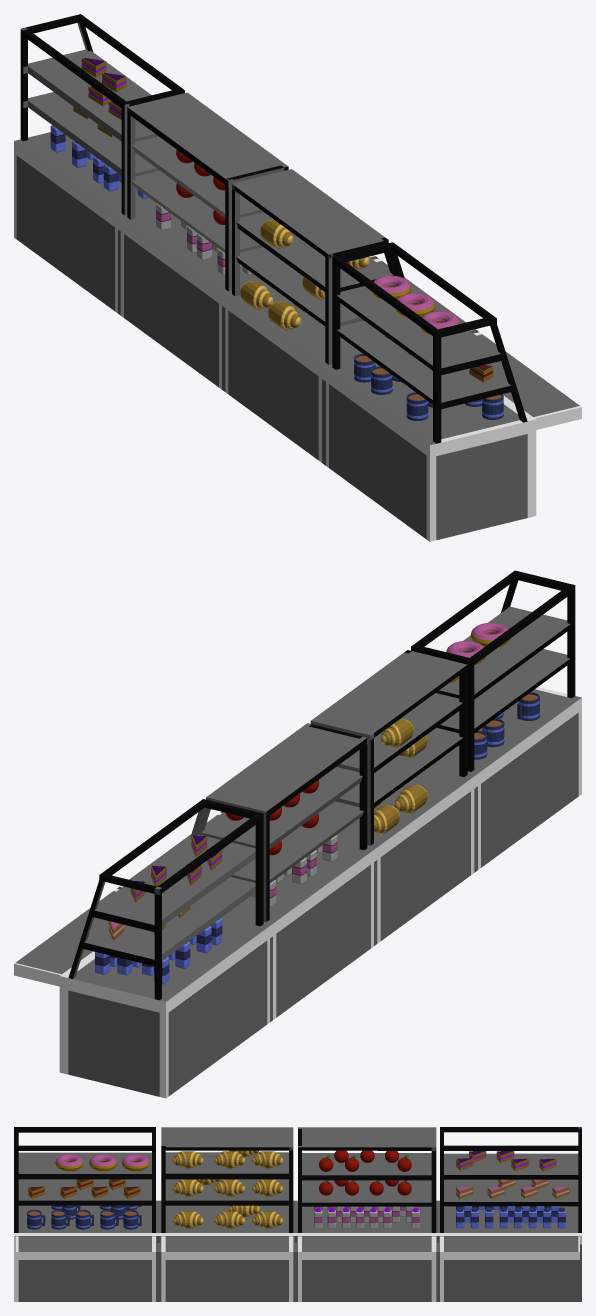
The model's file is Meson.fbx.
3 views of the same model, one above another, from view 1: azimuth 30°, elevation 25°; view 2: azimuth 150°, elevation 25°; view 3: azimuth 270°, elevation 25° (orthographic). The views are drawn at different scales.
Parts seen in each view (by area): view 1: Cube.005, Cylinder.025, Cylinder.026, Cylinder.012; view 2: Cube.005, Cylinder.025, Cylinder.012; view 3: Cube.005, Cylinder.020, Cylinder.015, Cylinder.016, Cylinder.021, Cylinder.019, Cylinder.014, Cylinder.010, Cylinder.011, Cylinder.005, Torus.002, Torus.003 (+7 smaller).
Part boxes in pixels (left/top/right/bottom): Cube.005: left=14, top=14, right=581, bottom=541; Cylinder.025: left=268, top=301, right=300, bottom=330; Cylinder.026: left=240, top=281, right=273, bottom=310; Cylinder.012: left=260, top=219, right=293, bottom=248; Cube.005: left=14, top=570, right=581, bottom=1098; Cylinder.025: left=394, top=785, right=427, bottom=813; Cylinder.012: left=381, top=719, right=413, bottom=747; Cube.005: left=14, top=1127, right=581, bottom=1301; Cylinder.020: left=214, top=1211, right=245, bottom=1228; Cylinder.015: left=214, top=1179, right=245, bottom=1196; Cylinder.016: left=252, top=1179, right=283, bottom=1196; Cylinder.021: left=252, top=1211, right=283, bottom=1228; Cylinder.019: left=172, top=1211, right=203, bottom=1228; Cylinder.014: left=172, top=1179, right=203, bottom=1196; Cylinder.010: left=214, top=1151, right=245, bottom=1168; Cylinder.011: left=252, top=1151, right=283, bottom=1168; Cylinder.005: left=172, top=1151, right=203, bottom=1168; Torus.002: left=55, top=1154, right=83, bottom=1171; Torus.003: left=89, top=1154, right=116, bottom=1171.
Size of the model in its own units: 100 by 130 by 471.
